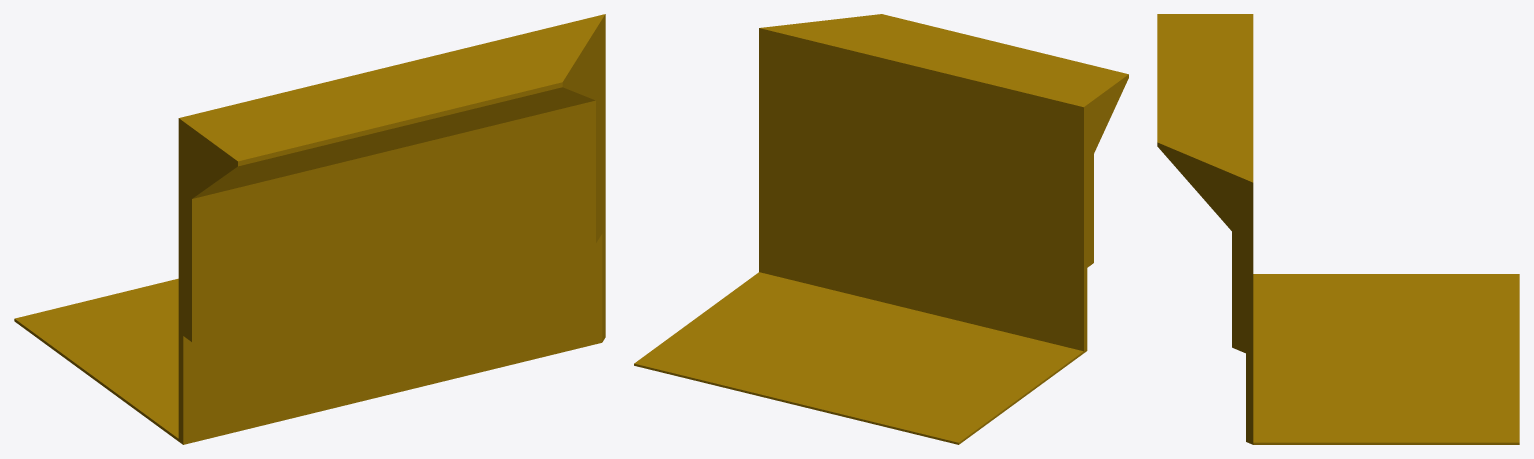
File: BasementMidroomCeiledge.fbx
The picture shows the model from 3 angles, left to right: view 1: azimuth 30°, elevation 25°; view 2: azimuth 150°, elevation 25°; view 3: azimuth 270°, elevation 25°; orthographic projection. The views are drawn at different scales.
Visible parts, largest first — view 1: BasementMidroomCeilledge; view 2: BasementMidroomCeilledge; view 3: BasementMidroomCeilledge.
Boxes of the visible parts, x1,y1,x2,y2 form: BasementMidroomCeilledge: (14,14,605,444); BasementMidroomCeilledge: (634,14,1128,444); BasementMidroomCeilledge: (1157,14,1519,444).
Size of the model in its own units: 552 by 400 by 501.
